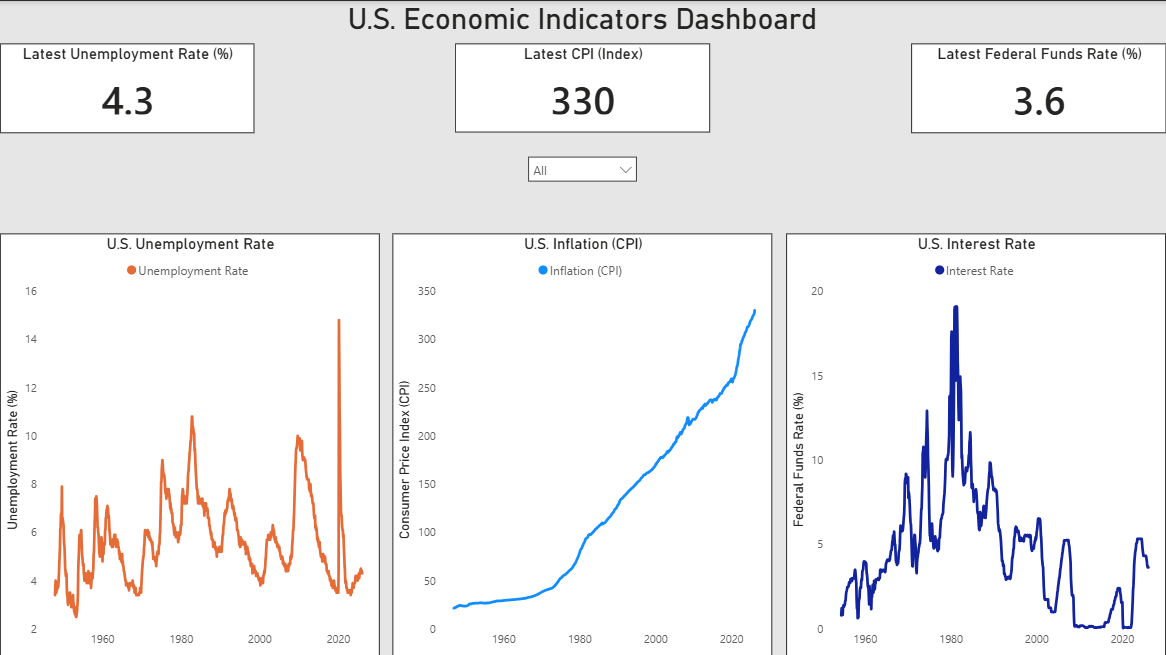

What the dashboard file says about the page in this screenshot:
{"tool":"powerbi","page":{"name":"Page 1","canvas":[1280,720],"ordinal":0},"visuals":[{"type":"lineChart","title":"U.S. Unemployment Rate","fields":{"Y":["Sum(economic_data.value)"],"Series":["economic_data.indicator_name"],"Category":["economic_data.date"]},"box":[0,255.2,417,465.2],"z":0},{"type":"lineChart","title":"U.S. Inflation (CPI)","fields":{"Y":["Sum(economic_data.value)"],"Series":["economic_data.indicator_name"],"Category":["economic_data.date"]},"box":[431.5,254.8,417,465.2],"z":1000},{"type":"lineChart","title":"U.S. Interest Rate","fields":{"Y":["Sum(economic_data.value)"],"Series":["economic_data.indicator_name"],"Category":["economic_data.date"]},"box":[863,255.2,417,465.2],"z":2000},{"type":"slicer","fields":{"Values":["economic_data.indicator_name"]},"box":[570,160.5,140,38.4],"z":3000},{"type":"textbox","title":"U.S. Economic Indicators Dashboard","box":[374.6,0,529.7,46.7],"z":4000},{"type":"cardVisual","title":"Latest CPI (Index)","fields":{"Data":["Max(economic_data.value)"]},"box":[499.6,46.7,279.9,97.4],"z":5000},{"type":"cardVisual","title":"Latest Unemployment Rate (%)","fields":{"Data":["Max(economic_data.value)"]},"box":[0,47,279,98],"z":6000},{"type":"cardVisual","title":"Latest Federal Funds Rate (%)","fields":{"Data":["Max(economic_data.value)"]},"box":[1000.1,46.7,279.9,98.8],"z":7000}]}

Visuals, with their boxes in screenshot pixels (x1, y1, x2, y2), scaled from the page's 1280x720 canvas onto the 1166x655 screenshot:
"U.S. Unemployment Rate" lineChart: [0,232,380,654]
"U.S. Inflation (CPI)" lineChart: [393,232,773,654]
"U.S. Interest Rate" lineChart: [786,232,1165,654]
slicer - economic_data.indicator_name: [519,146,647,181]
"U.S. Economic Indicators Dashboard" textbox: [341,0,824,42]
"Latest CPI (Index)" cardVisual: [455,42,710,131]
"Latest Unemployment Rate (%)" cardVisual: [0,43,254,132]
"Latest Federal Funds Rate (%)" cardVisual: [911,42,1165,132]
